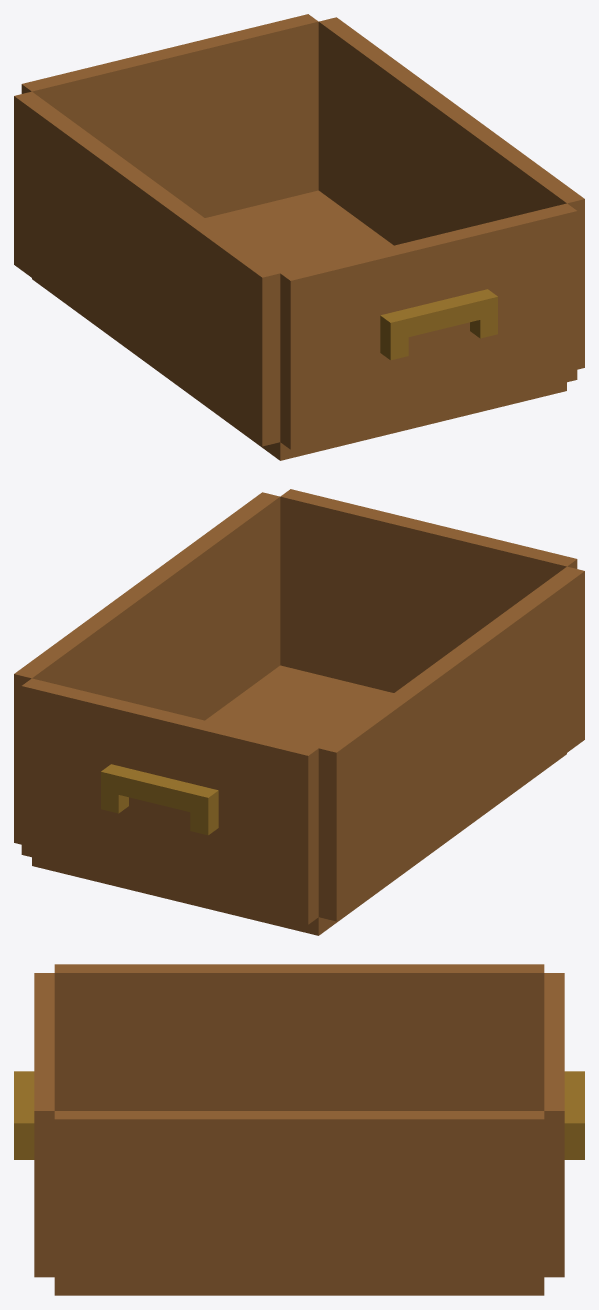
File: Crate E.obj
The picture shows the model from 3 angles, top to bottom: view 1: azimuth 30°, elevation 25°; view 2: azimuth 150°, elevation 25°; view 3: azimuth 270°, elevation 25°; orthographic projection.
Parts seen in each view (by area): view 1: Crate E; view 2: Crate E; view 3: Crate E.
Boxes of the visible parts, x1,y1,x2,y2 form: Crate E: [14, 14, 584, 460]; Crate E: [14, 489, 584, 935]; Crate E: [14, 964, 584, 1295].
Bounding box in the file's own units: 18 × 10 × 28.
